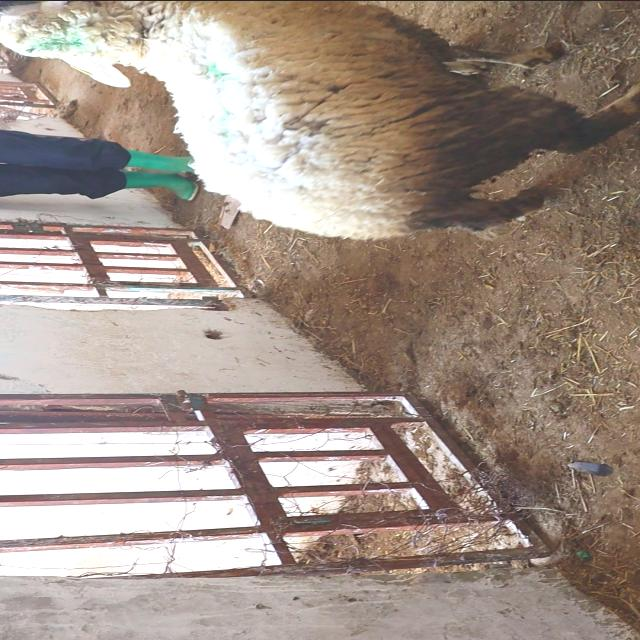Score_4: (0, 0, 639, 239)
